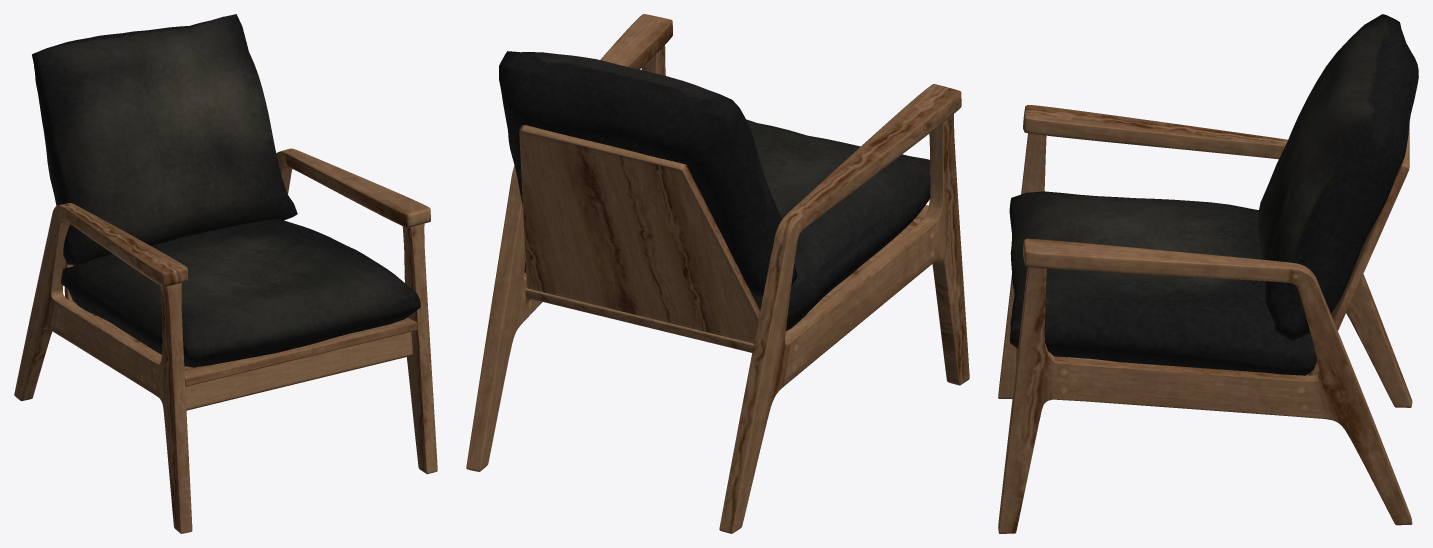
File: modern_arm_chair_01.glb
The picture shows the model from 3 angles, left to right: view 1: azimuth 30°, elevation 25°; view 2: azimuth 150°, elevation 25°; view 3: azimuth 270°, elevation 25°; orthographic projection. The views are drawn at different scales.
Visible parts, largest first — view 1: modern_arm_chair_01; view 2: modern_arm_chair_01; view 3: modern_arm_chair_01.
Part boxes in pixels (x1=…): modern_arm_chair_01: x1=14, y1=14, x2=437, y2=533; modern_arm_chair_01: x1=466, y1=14, x2=969, y2=533; modern_arm_chair_01: x1=998, y1=14, x2=1418, y2=533.
Size of the model in its own units: 0.8203 by 1.02 by 0.9866.
Materials: 2 (2 with a texture image).
